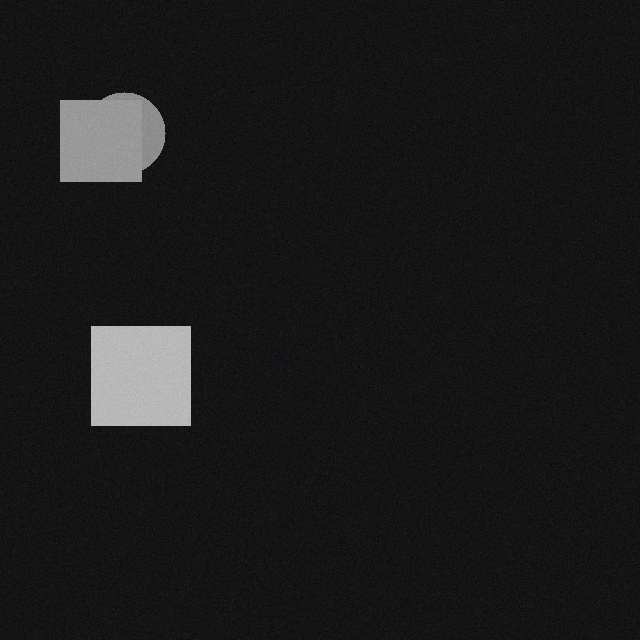circle: (81, 78, 163, 160)
square: (89, 312, 188, 411), (58, 86, 139, 167)
